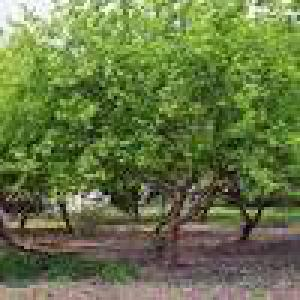Tree: (0, 3, 297, 279)
